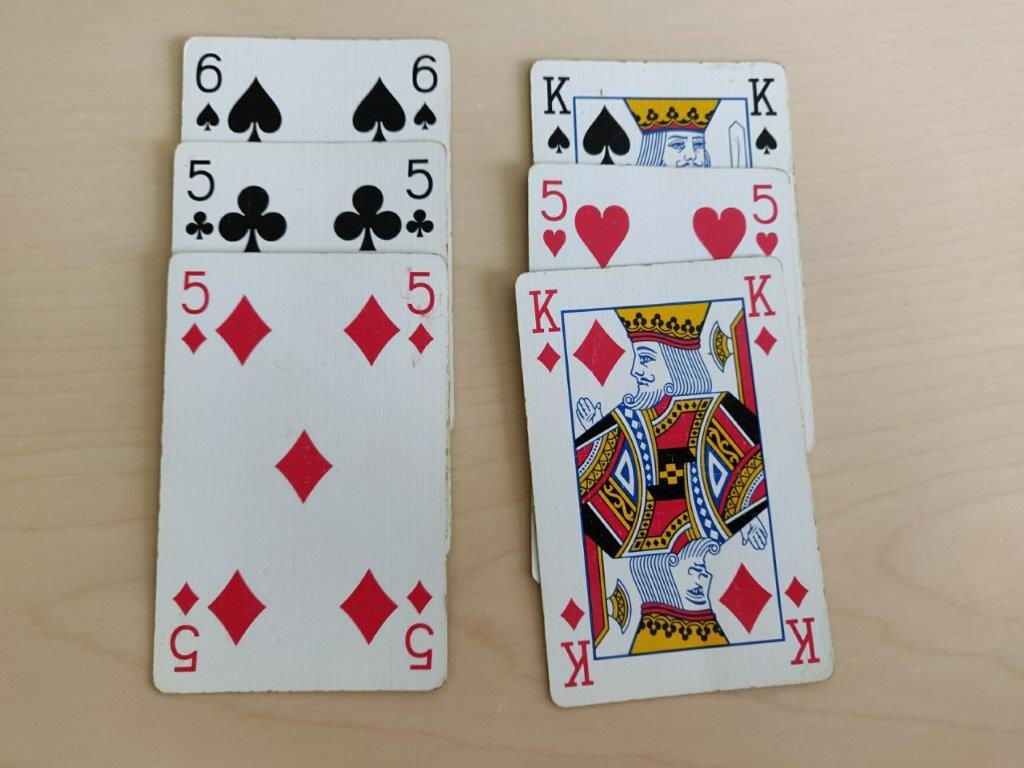5C: (181, 154, 218, 243), (403, 153, 438, 245)
5D: (177, 264, 213, 360), (404, 264, 440, 360)
5H: (532, 173, 571, 259), (749, 177, 785, 260)
6S: (191, 49, 226, 137), (409, 46, 441, 135)
KD: (526, 283, 565, 377)
KH: (738, 268, 788, 361)
KS: (744, 72, 785, 160), (542, 69, 573, 155)
